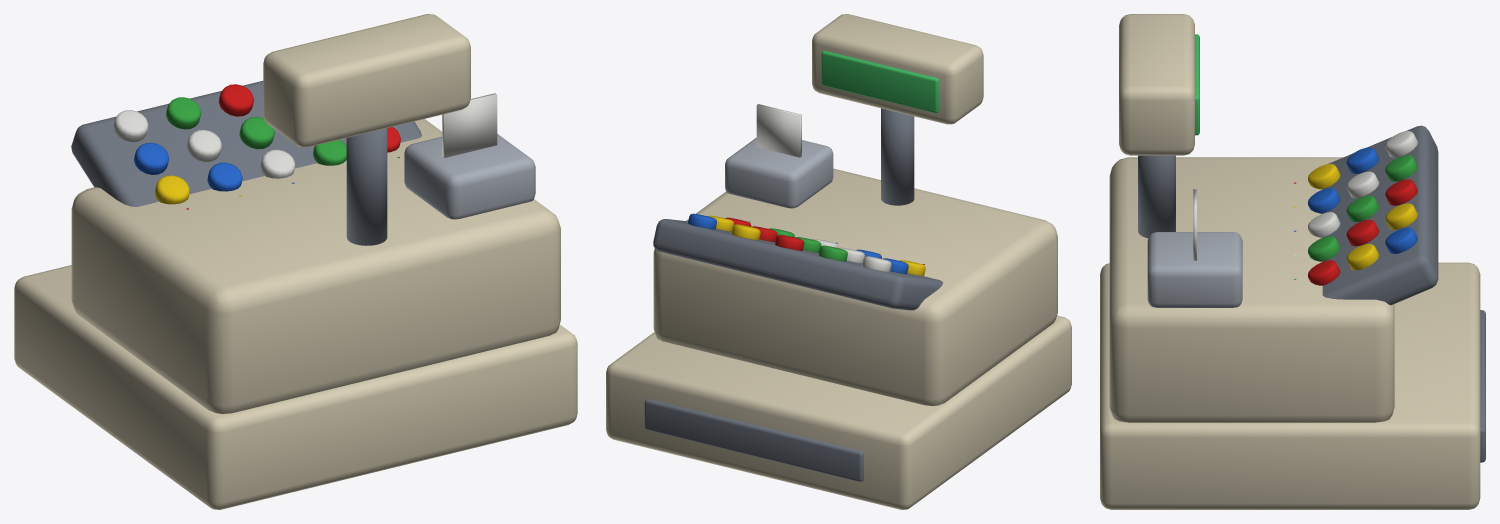
File: cash_register.glb
3 renders of one model, left to right at view 1: azimuth 30°, elevation 25°; view 2: azimuth 150°, elevation 25°; view 3: azimuth 270°, elevation 25°, orthographic. The views are drawn at different scales.
Visible parts, largest first — view 1: cash_register; view 2: cash_register; view 3: cash_register.
Boxes of the visible parts, bbox=[...] form: cash_register: bbox=[14, 14, 577, 509]; cash_register: bbox=[606, 14, 1071, 509]; cash_register: bbox=[1100, 14, 1485, 509].
Size of the model in its own units: 0.42 by 0.44 by 0.406.
